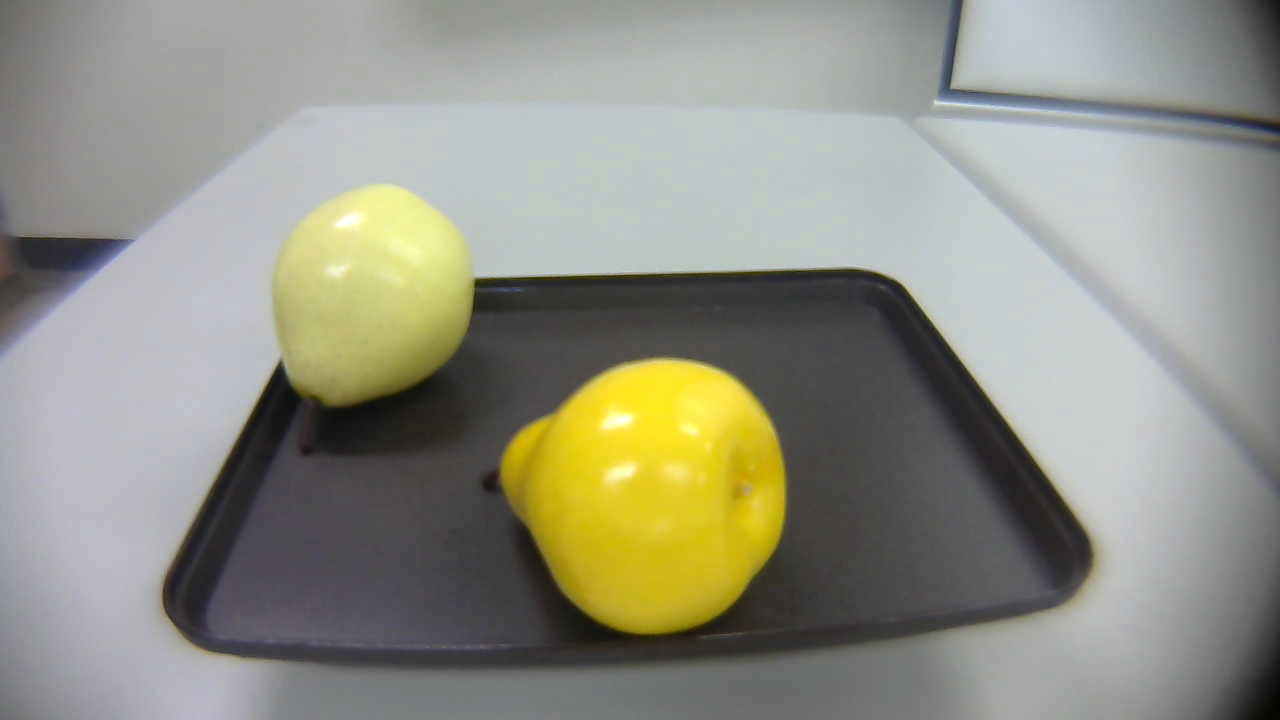western pear: (267, 171, 481, 464)
yellow pear: (468, 356, 802, 638)
